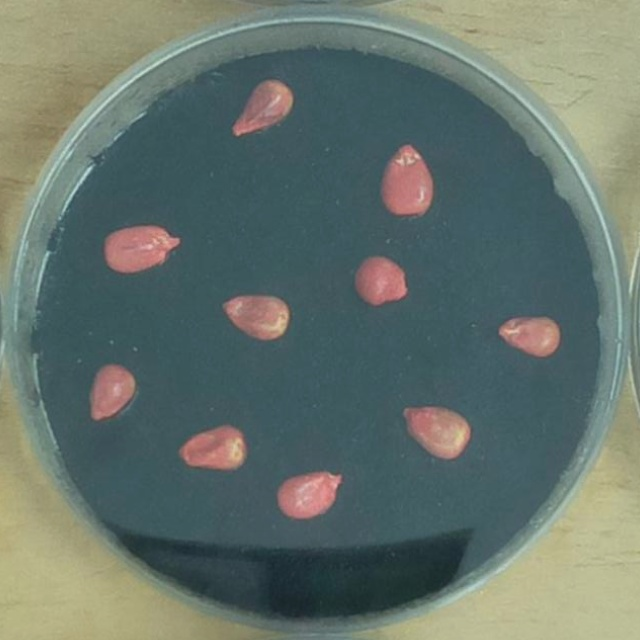Zea mays: (372, 135, 440, 224), (95, 215, 188, 280), (392, 396, 477, 466), (223, 72, 300, 143), (212, 286, 296, 348), (268, 462, 350, 525), (172, 415, 254, 477), (79, 356, 144, 428), (347, 248, 416, 311), (489, 306, 565, 363)
